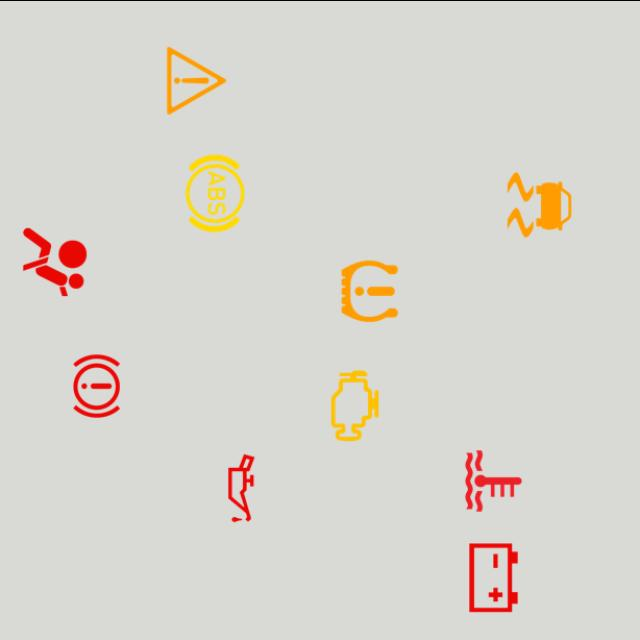Anti Lock Braking System: (173, 150, 257, 234)
Braking System Issue: (54, 342, 138, 428)
Charging System Issue: (452, 535, 536, 619)
Check Engine: (313, 363, 397, 447)
Electronic Stability Problem -ESP-: (498, 162, 582, 246)
Engine Overheating Warning Light: (452, 438, 536, 522)
Low Engine Oil Warning Light: (200, 445, 284, 530)
Low Tire Pressure Warning Light: (328, 248, 412, 332)
Master warning light: (154, 38, 238, 122)
SRS-Airbag: (12, 219, 96, 303)
